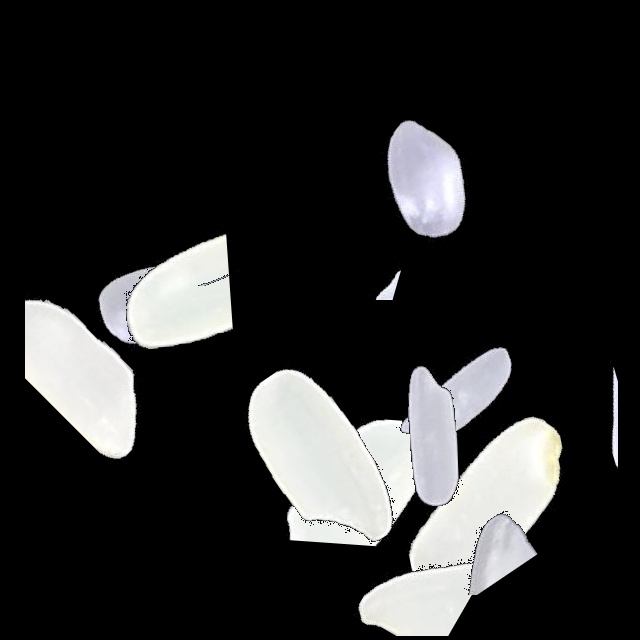Broken: (25, 219, 187, 469), (281, 339, 441, 589), (36, 222, 286, 360), (286, 509, 536, 636), (333, 474, 583, 595), (509, 264, 618, 514), (69, 191, 319, 286), (238, 223, 488, 300)
Full: (232, 351, 482, 601), (26, 176, 276, 426), (297, 57, 547, 307), (331, 268, 581, 518), (362, 380, 612, 630), (196, 336, 446, 586), (306, 309, 556, 559)
